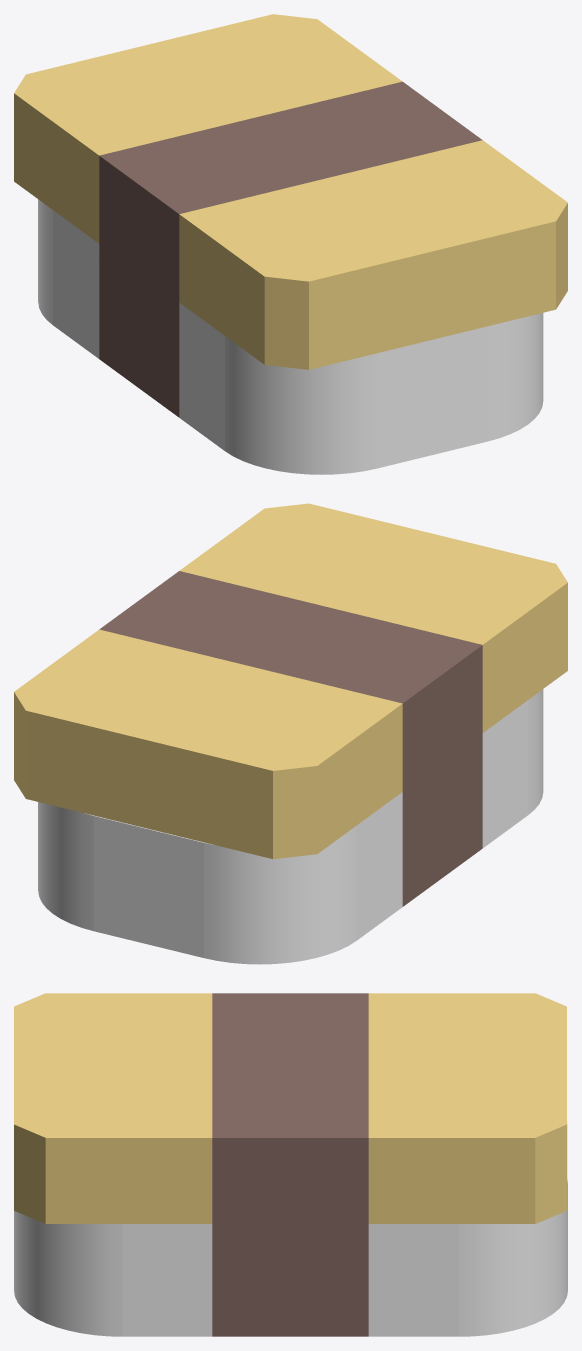
Rendered from sushiEgg.fbx.
3 views of the same model, one above another, from view 1: azimuth 30°, elevation 25°; view 2: azimuth 150°, elevation 25°; view 3: azimuth 270°, elevation 25° (orthographic). The views are drawn at different scales.
Parts seen in each view (by area): view 1: sushiEgg; view 2: sushiEgg; view 3: sushiEgg.
Part boxes in pixels (x1,y1,x2,y2): sushiEgg: (14, 14, 567, 474); sushiEgg: (14, 503, 567, 964); sushiEgg: (14, 993, 567, 1336).
Size of the model in its own units: 10.79 by 6.92 by 17.46.
